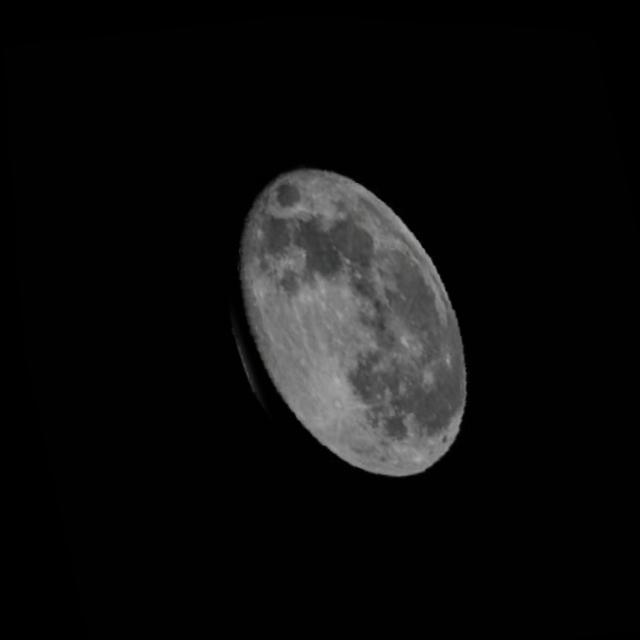moon: (178, 138, 488, 502)
